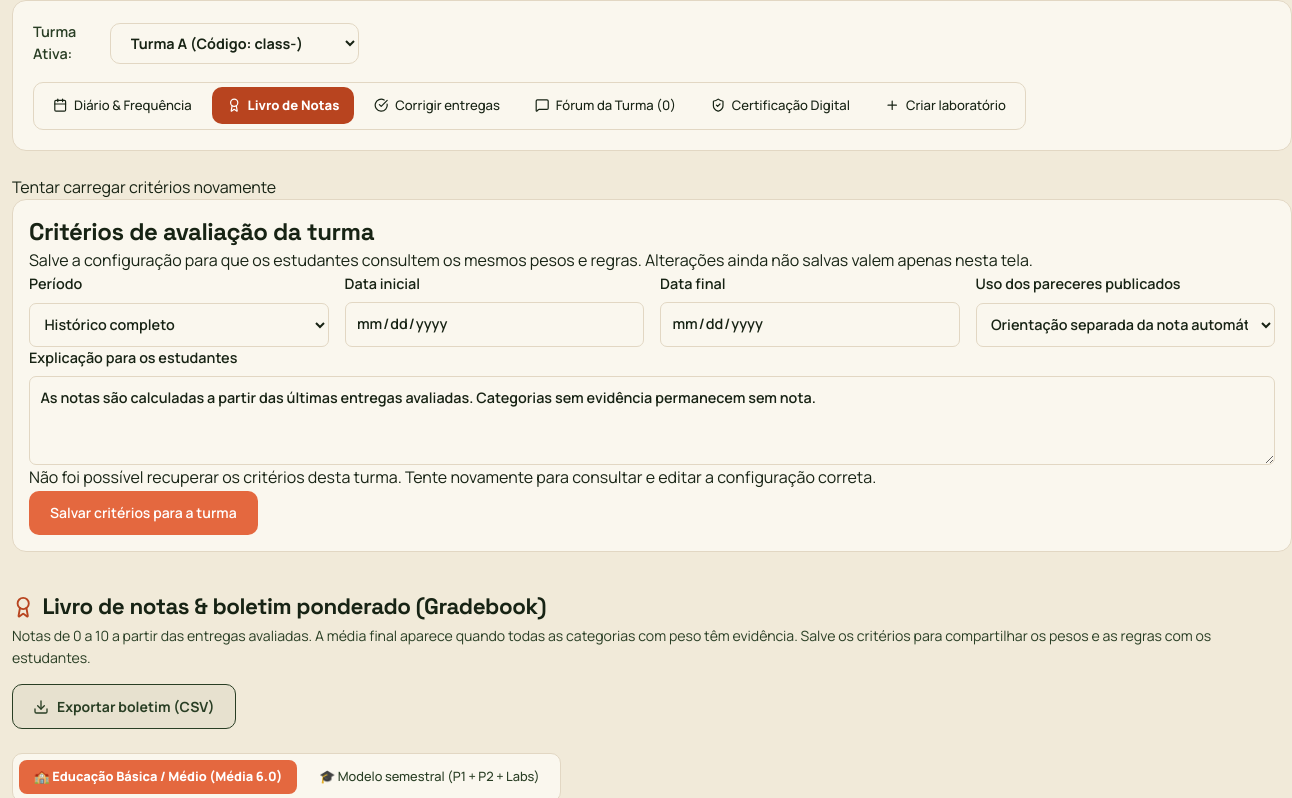
Test case: mecânicas do diário do professor › bloqueia edição de critérios desconhecidos e permite recuperar os dados
The image size is (1292, 798).
Expected: the text "Não foi possível recuperar os critérios" is shown, [29,466,876,488]
Expected: the button "Salvar critérios para a turma" is disabled, [29,491,258,536]
Click the button "Tentar carregar critérios novamente" at x=144, y=187, box [12,175,276,199]
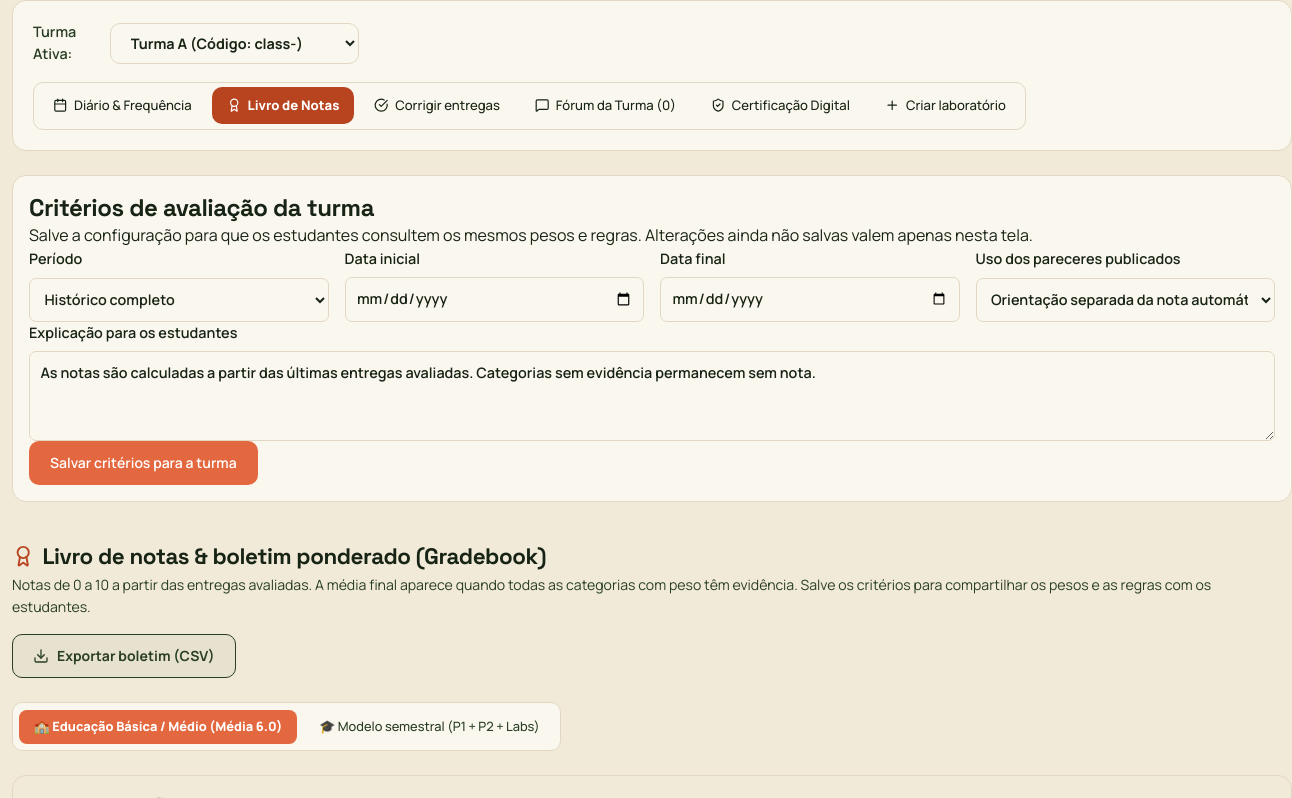
Result: the button "Salvar critérios para a turma" is enabled at [29,441,258,485]
